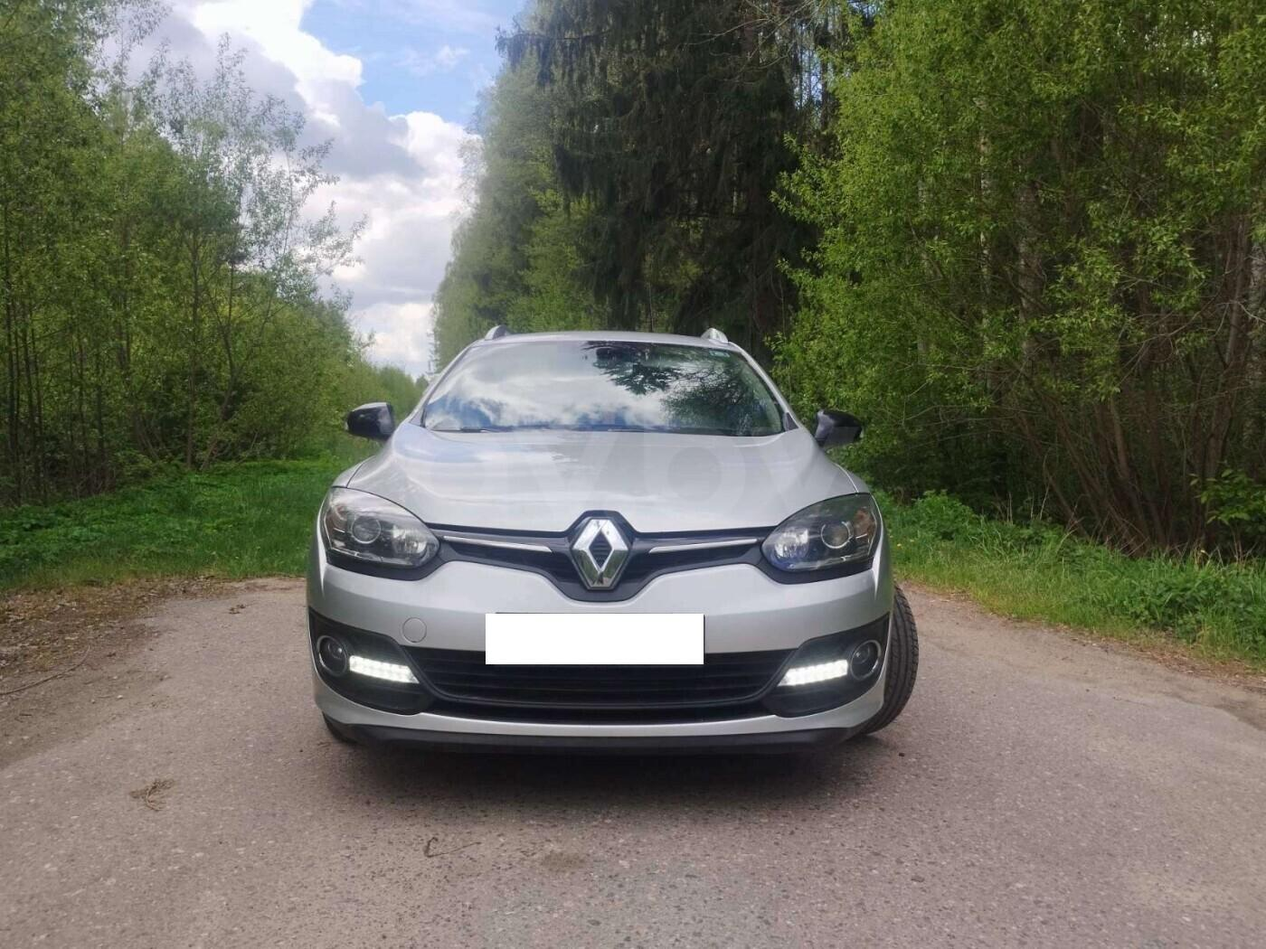Megane_2014-2016: (293, 320, 920, 770)
